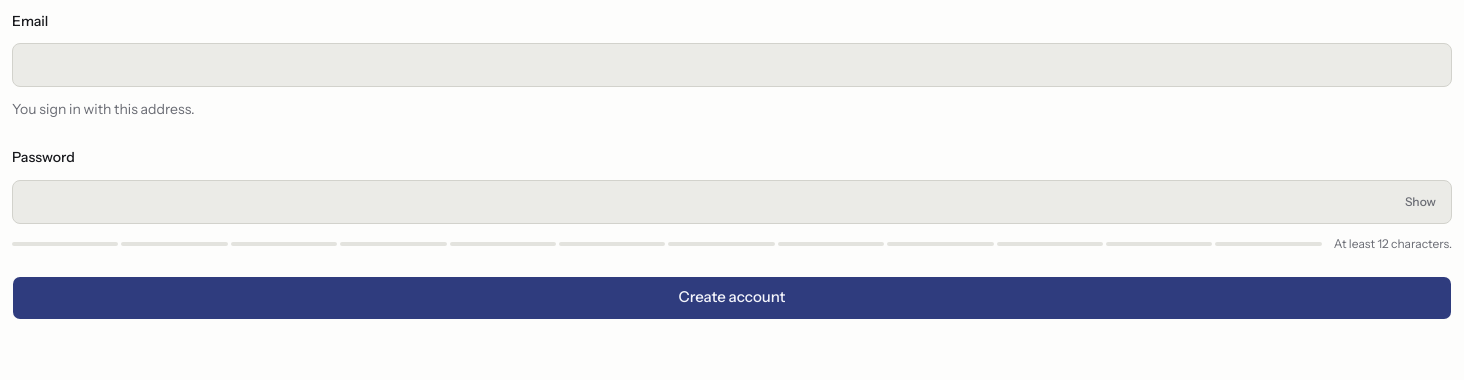
Test: RegisterForm › an unavailable email is one message above the form, on no field
Step 1. Type "ada@example.com" into the field labelled "Email" → [732, 65], box x1=12 y1=43 x2=1452 y2=87
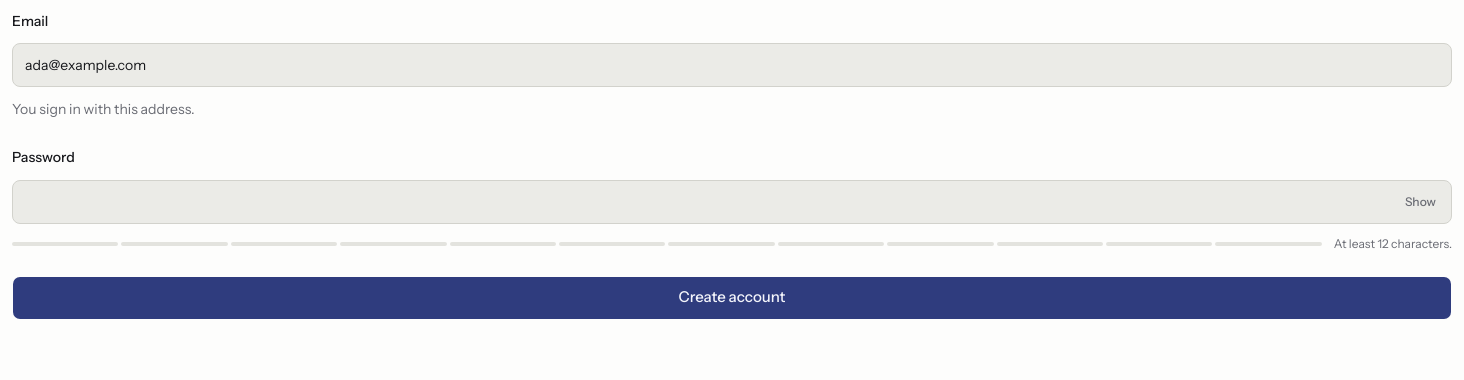
Step 2. Type "a long enough password" into the password field labelled "Password" → [732, 202], box x1=12 y1=180 x2=1452 y2=224
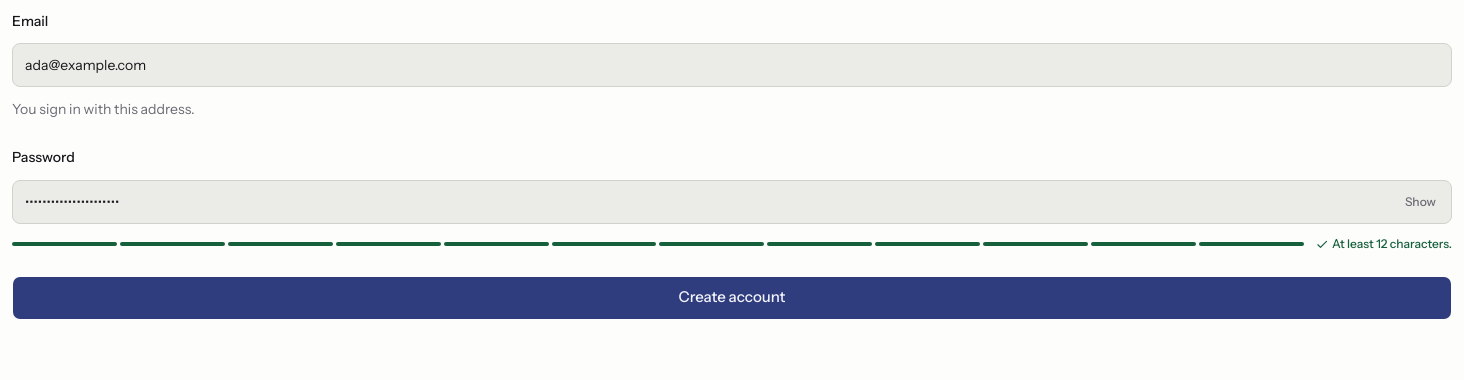
Step 3. Click the button "Create account" → [732, 298], box x1=12 y1=276 x2=1452 y2=320
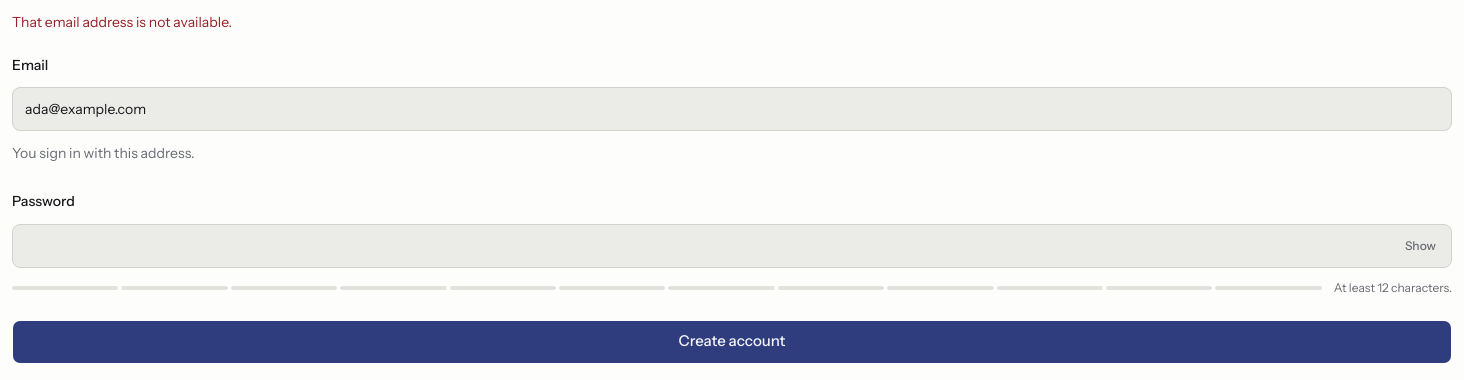
Now the text "That email address is not available." is shown, box x1=12 y1=13 x2=232 y2=31
